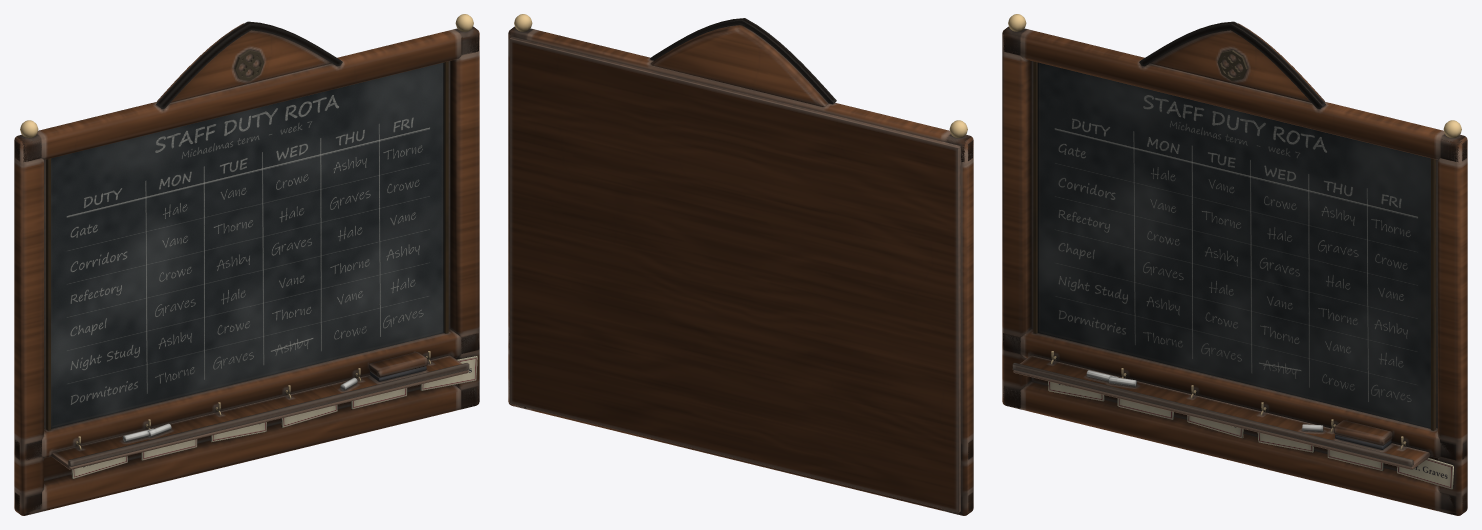
Rendered from StaffRotaBoard.fbx.
The picture shows the model from 3 angles, left to right: view 1: azimuth 30°, elevation 25°; view 2: azimuth 150°, elevation 25°; view 3: azimuth 330°, elevation 25°; orthographic projection.
Parts seen in each view (by area): view 1: StaffRotaBoard; view 2: StaffRotaBoard; view 3: StaffRotaBoard.
Boxes of the visible parts, left/top/right/bottom form: StaffRotaBoard: left=14, top=14, right=479, bottom=515; StaffRotaBoard: left=508, top=14, right=973, bottom=515; StaffRotaBoard: left=1002, top=14, right=1467, bottom=515.
Size of the model in its own units: 460 by 419 by 52.
